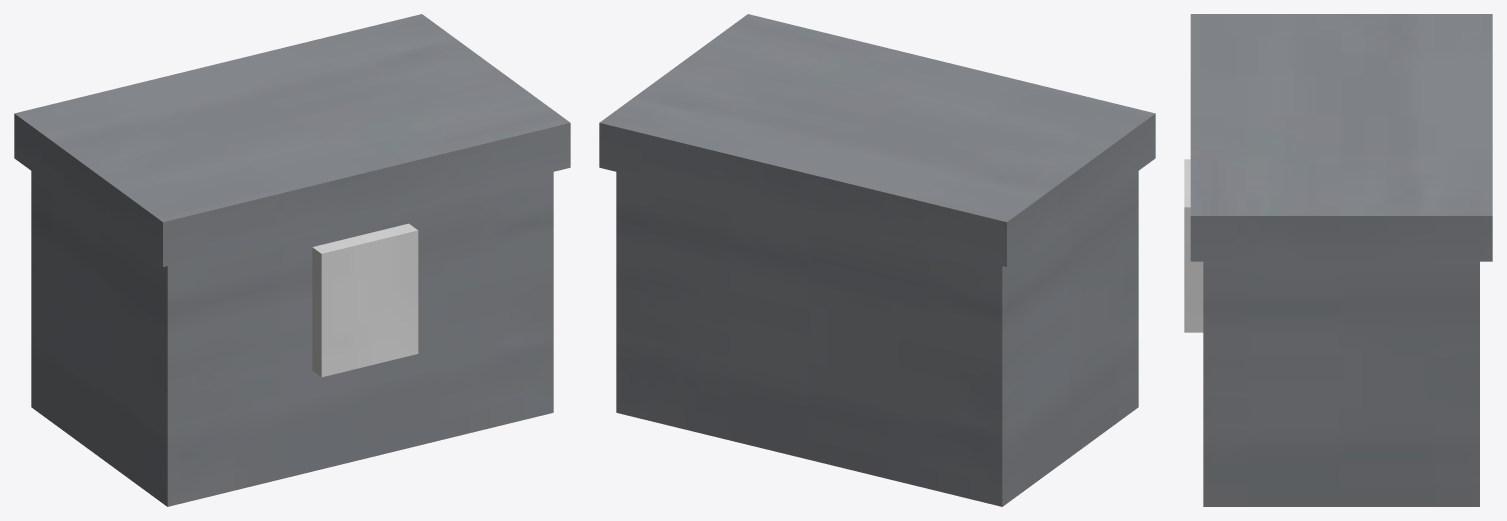
File: cargo.t5.glb
3 views of the same model, side by side, from view 1: azimuth 30°, elevation 25°; view 2: azimuth 150°, elevation 25°; view 3: azimuth 270°, elevation 25° (orthographic).
Parts seen in each view (by area): view 1: courier.cargo.t5; view 2: courier.cargo.t5; view 3: courier.cargo.t5.
Boxes of the visible parts, x1,y1,x2,y2 form: courier.cargo.t5: (14,14,570,506); courier.cargo.t5: (599,14,1155,506); courier.cargo.t5: (1184,14,1492,506).
Size of the model in its own units: 0.38 by 0.26 by 0.245.
2 materials, 2 textured.
